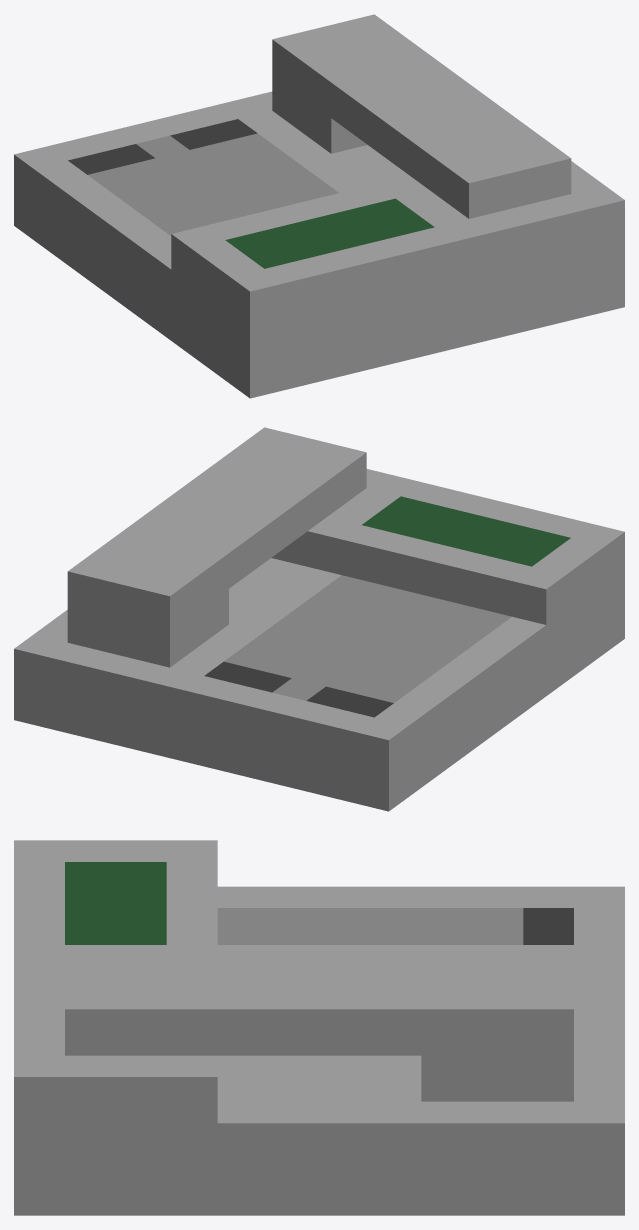
Rendered from telephone_01.glb.
The picture shows the model from 3 angles, top to bottom: view 1: azimuth 30°, elevation 25°; view 2: azimuth 150°, elevation 25°; view 3: azimuth 270°, elevation 25°; orthographic projection. The views are drawn at different scales.
Parts seen in each view (by area): view 1: Untitled; view 2: Untitled; view 3: Untitled.
Boxes of the visible parts, x1,y1,x2,y2 form: Untitled: (14, 14, 624, 398); Untitled: (14, 427, 624, 811); Untitled: (14, 840, 624, 1215).
Bounding box in the file's own units: 0.33 × 0.12 × 0.36.
1 material, 1 textured.
